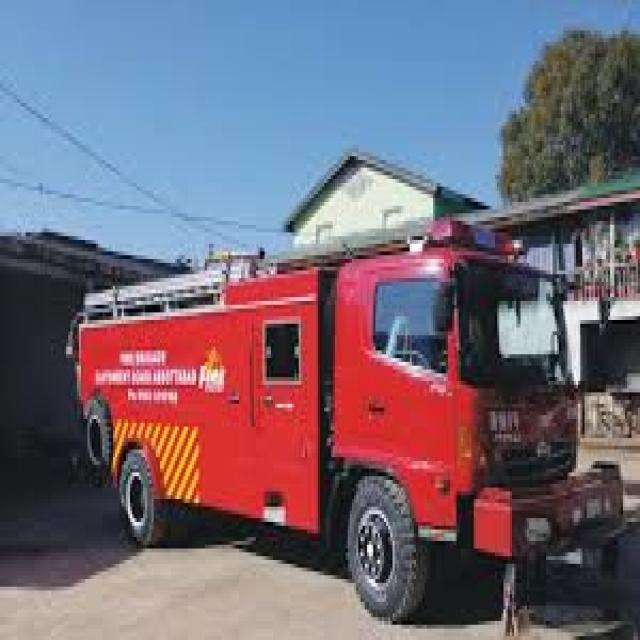Fire_brigade: (58, 217, 625, 617)
